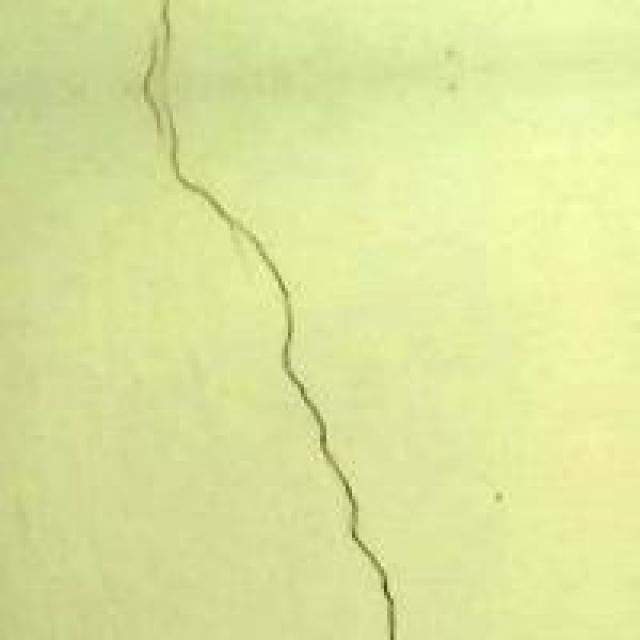crack: (106, 0, 432, 637)
